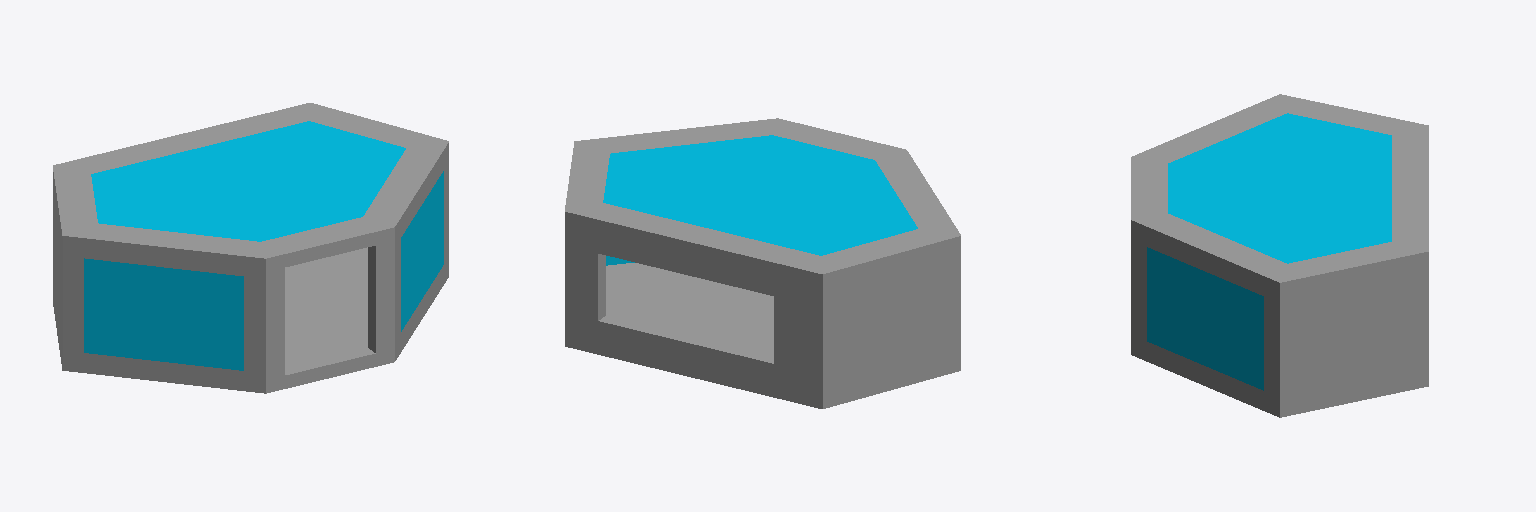
File: bunker-box.obj
3 views of the same model, side by side, from view 1: azimuth 30°, elevation 25°; view 2: azimuth 150°, elevation 25°; view 3: azimuth 270°, elevation 25° (orthographic).
Visible parts, largest first — view 1: Mesh1 Bunker__Box1 Model; view 2: Mesh1 Bunker__Box1 Model; view 3: Mesh1 Bunker__Box1 Model.
Boxes of the visible parts, box(x1,y1,x2,y2) form: Mesh1 Bunker__Box1 Model: box(53, 103, 448, 393); Mesh1 Bunker__Box1 Model: box(565, 118, 960, 408); Mesh1 Bunker__Box1 Model: box(1131, 94, 1428, 417).
Size of the model in its own units: 6 by 2 by 4.